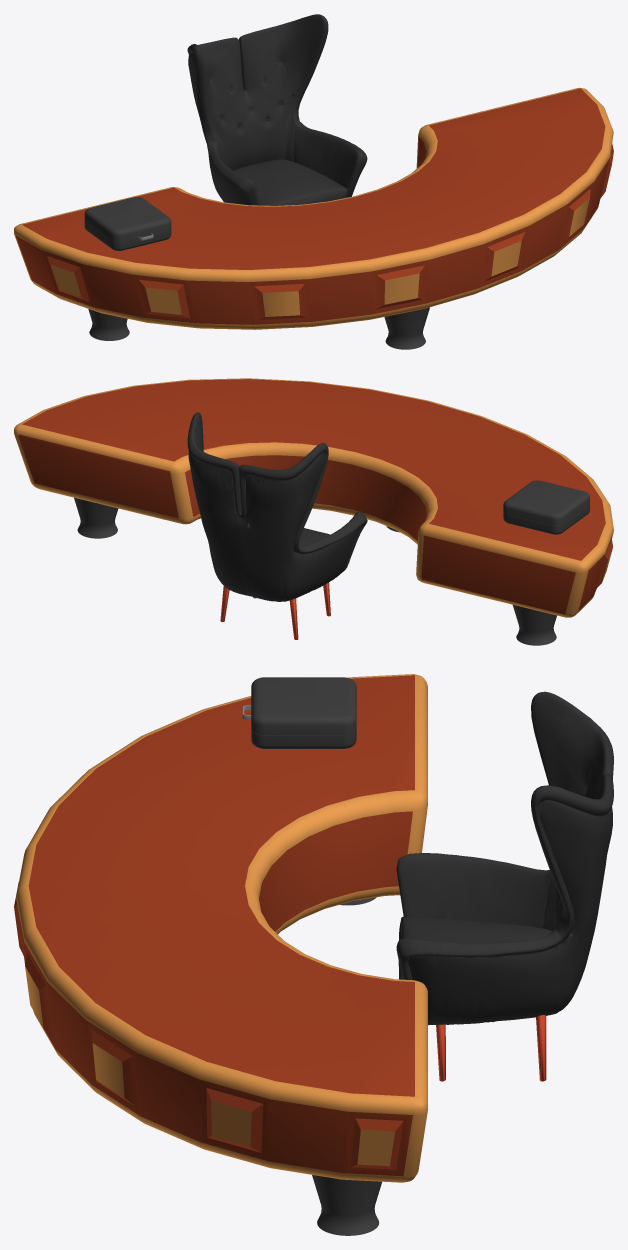
File: patronMasa.fbx
3 renders of one model, top to bottom at view 1: azimuth 30°, elevation 25°; view 2: azimuth 150°, elevation 25°; view 3: azimuth 270°, elevation 25°, orthographic. The views are drawn at different scales.
Parts seen in each view (by area): view 1: patronMasa, koltuk, canta; view 2: patronMasa, koltuk, canta; view 3: patronMasa, koltuk, canta.
Boxes of the visible parts, x1=… form: patronMasa: x1=14, y1=87, x2=613, y2=349; koltuk: x1=187, y1=14, x2=367, y2=205; canta: x1=84, y1=197, x2=171, y2=250; patronMasa: x1=14, y1=378, x2=613, y2=645; koltuk: x1=187, y1=412, x2=367, y2=639; canta: x1=503, y1=480, x2=589, y2=534; patronMasa: x1=14, y1=674, x2=427, y2=1235; koltuk: x1=396, y1=691, x2=613, y2=1081; canta: x1=242, y1=677, x2=356, y2=748.
Size of the model in its own units: 537 by 182 by 315.
